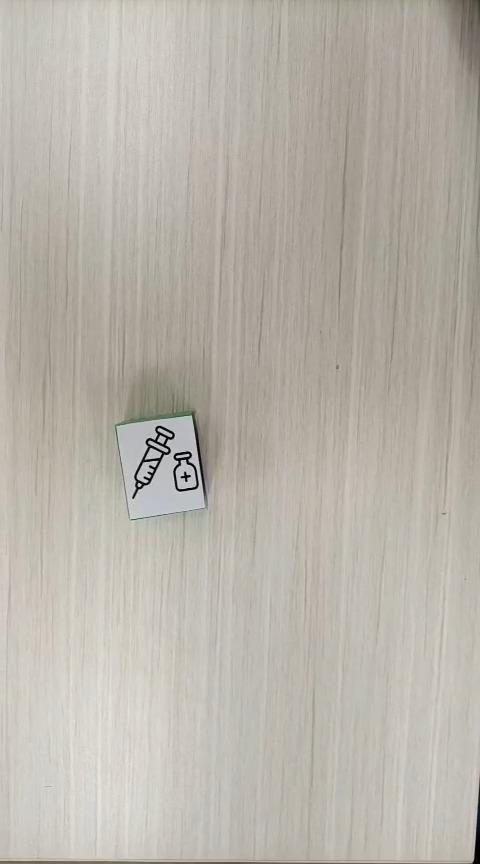antiseptic cream: (113, 414, 214, 526)
